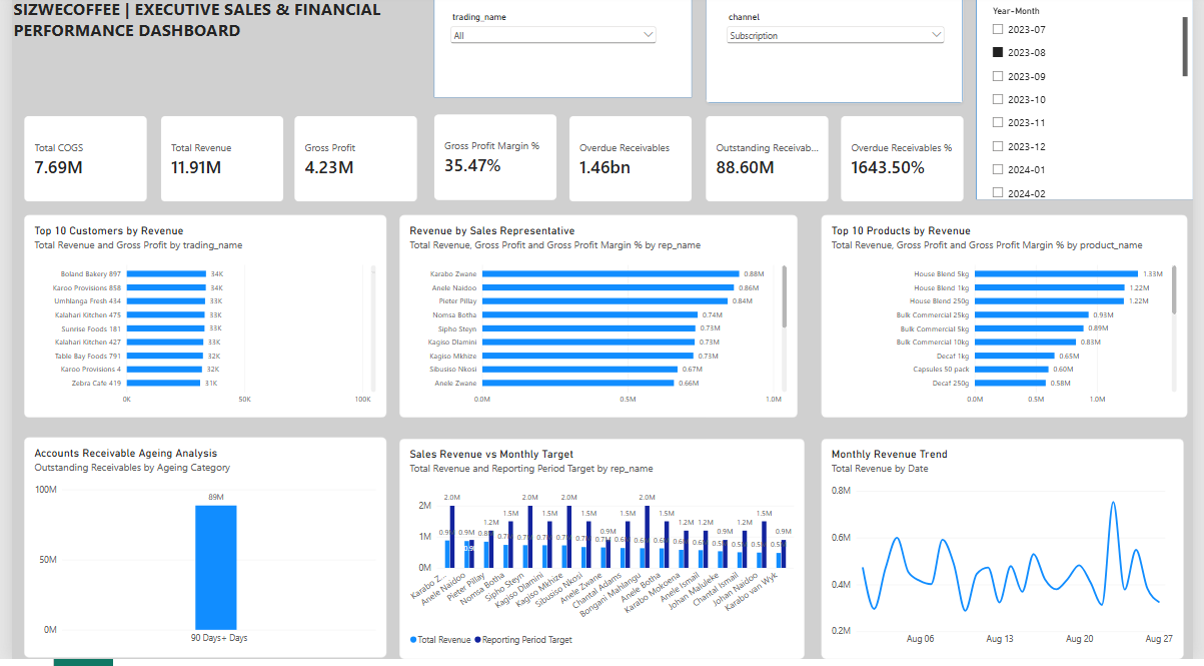

The dashboard page shown, as its layout file describes it:
{"tool":"powerbi","page":{"name":"Page 1","canvas":[1920,1080],"ordinal":0},"visuals":[{"type":"shape","box":[1127.2,0,419.6,178.1],"z":0},{"type":"shape","box":[1566.4,0,353.8,334.3],"z":1000},{"type":"shape","box":[685.6,4.9,419.6,163.5],"z":2000},{"type":"cardVisual","fields":{"Data":["sizwe_sales_lines.Total Revenue"]},"box":[241.5,197.6,200,140],"z":3000},{"type":"cardVisual","fields":{"Data":["sizwe_sales_lines.Total COGS"]},"box":[20.2,196.4,200,140],"z":4000},{"type":"cardVisual","fields":{"Data":["sizwe_sales_lines.Gross Profit Margin %"]},"box":[685.6,195.2,200,140],"z":5000},{"type":"cardVisual","fields":{"Data":["sizwe_sales_lines.Gross Profit"]},"box":[458.7,197.6,200,140],"z":6000},{"type":"lineChart","title":"Monthly Revenue Trend","fields":{"Category":["DimDate.Date"],"Y":["sizwe_sales_lines.Total Revenue"]},"box":[1314.4,722.2,589,358.2],"z":7000},{"type":"clusteredBarChart","title":"Top 10 Products by Revenue","fields":{"Category":["sizwe_products.product_name"],"Y":["sizwe_sales_lines.Total Revenue"]},"box":[1314.4,358.2,595.1,329.3],"z":8000},{"type":"clusteredBarChart","title":"Top 10 Customers by Revenue","fields":{"Category":["sizwe_customers.trading_name"],"Y":["sizwe_sales_lines.Total Revenue"]},"box":[20.2,358.2,589.3,329.3],"z":9000},{"type":"clusteredBarChart","title":"Revenue by Sales Representative","fields":{"Category":["sizwe_reps.rep_name"],"Y":["sizwe_sales_lines.Total Revenue"]},"box":[629.7,358.2,647.1,329.3],"z":10000},{"type":"cardVisual","fields":{"Data":["sizwe_ar_ledger.Outstanding Receivables"]},"box":[1127.2,197.6,200,140],"z":11000},{"type":"cardVisual","fields":{"Data":["sizwe_ar_ledger.Overdue Receivables"]},"box":[905.2,197.6,200,140],"z":12000},{"type":"cardVisual","fields":{"Data":["sizwe_ar_ledger.Overdue Receivables %"]},"box":[1346.8,197.6,200,140],"z":13000},{"type":"clusteredColumnChart","title":"Accounts Receivable Ageing Analysis","fields":{"Category":["sizwe_ar_ledger.Ageing Category"],"Y":["sizwe_ar_ledger.Outstanding Receivables"]},"box":[20.2,719.3,589,358.2],"z":14000},{"type":"clusteredColumnChart","title":"Sales Revenue vs Monthly Target","fields":{"Category":["sizwe_reps.rep_name"],"Y":["sizwe_sales_lines.Total Revenue","sizwe_reps.Reporting Period Target"]},"box":[629.7,722.2,658.6,358.2],"z":15000},{"type":"slicer","fields":{"Values":["DimDate.Year-Month"]},"box":[1585.9,19.5,324.5,314.7],"z":16000},{"type":"slicer","fields":{"Values":["sizwe_sales_orders.channel"]},"box":[1156.5,29.3,363.5,112.2],"z":17000},{"type":"slicer","fields":{"Values":["sizwe_customers.trading_name"]},"box":[707.5,29.3,344,112.2],"z":18000},{"type":"textbox","box":[2.4,4.9,656.3,107.4],"z":19000}]}

Visuals, with their boxes in screenshot pixels (x1, y1, x2, y2), scaled from the page's 1920x1080 canvas onto the 1204x666 screenshot:
shape: [707, 0, 970, 110]
shape: [982, 0, 1203, 206]
shape: [430, 3, 693, 104]
cardVisual - sizwe_sales_lines.Total Revenue: [151, 122, 277, 208]
cardVisual - sizwe_sales_lines.Total COGS: [13, 121, 138, 207]
cardVisual - sizwe_sales_lines.Gross Profit Margin %: [430, 120, 555, 207]
cardVisual - sizwe_sales_lines.Gross Profit: [288, 122, 413, 208]
"Monthly Revenue Trend" lineChart: [824, 445, 1194, 665]
"Top 10 Products by Revenue" clusteredBarChart: [824, 221, 1197, 424]
"Top 10 Customers by Revenue" clusteredBarChart: [13, 221, 382, 424]
"Revenue by Sales Representative" clusteredBarChart: [395, 221, 801, 424]
cardVisual - sizwe_ar_ledger.Outstanding Receivables: [707, 122, 832, 208]
cardVisual - sizwe_ar_ledger.Overdue Receivables: [568, 122, 693, 208]
cardVisual - sizwe_ar_ledger.Overdue Receivables %: [845, 122, 970, 208]
"Accounts Receivable Ageing Analysis" clusteredColumnChart: [13, 444, 382, 664]
"Sales Revenue vs Monthly Target" clusteredColumnChart: [395, 445, 808, 665]
slicer - DimDate.Year-Month: [994, 12, 1198, 206]
slicer - sizwe_sales_orders.channel: [725, 18, 953, 87]
slicer - sizwe_customers.trading_name: [444, 18, 659, 87]
textbox: [2, 3, 413, 69]
